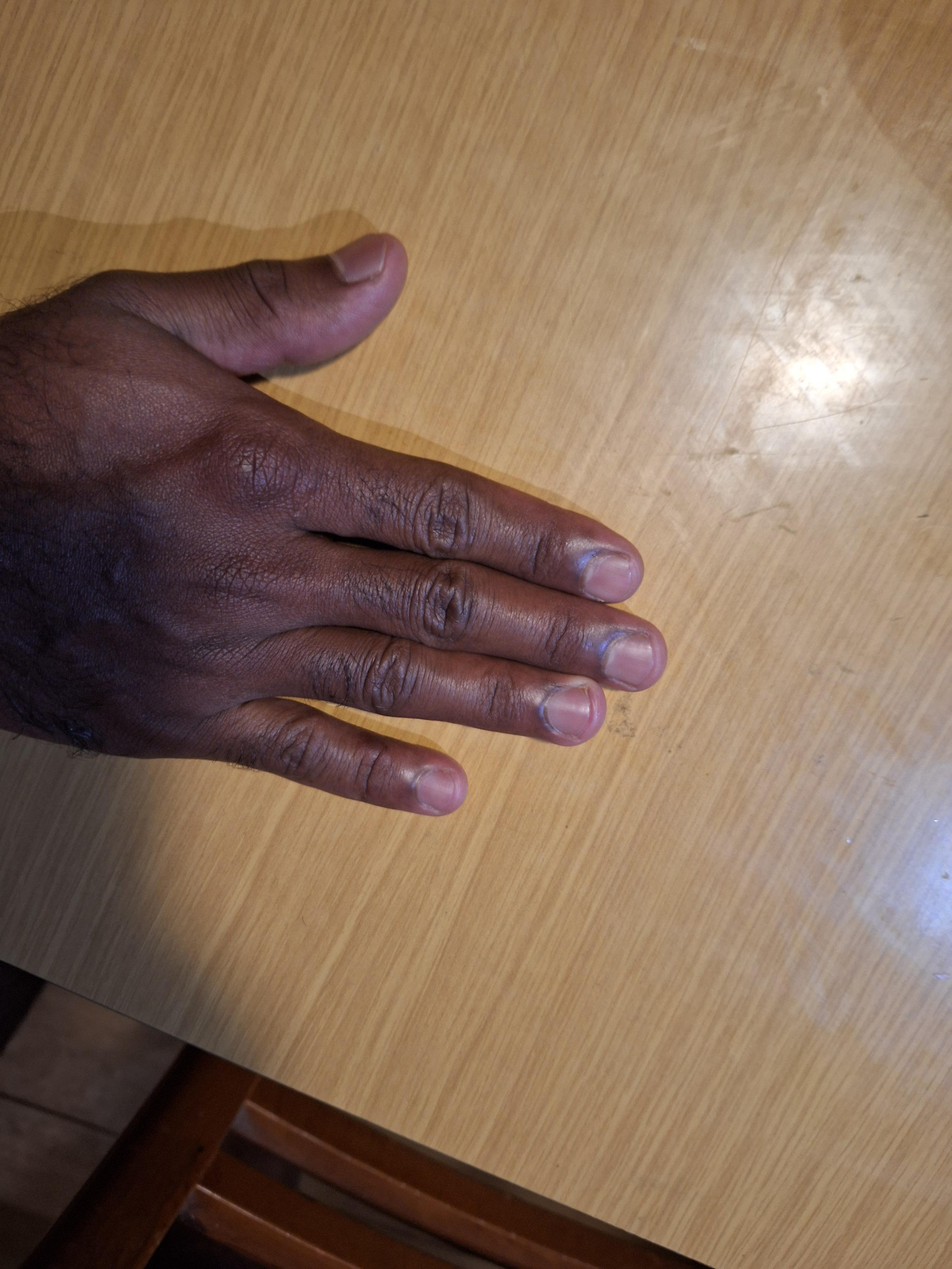Fingernail: (331, 233, 386, 283), (581, 552, 631, 601), (605, 634, 653, 685), (548, 686, 589, 737), (418, 770, 454, 810)
